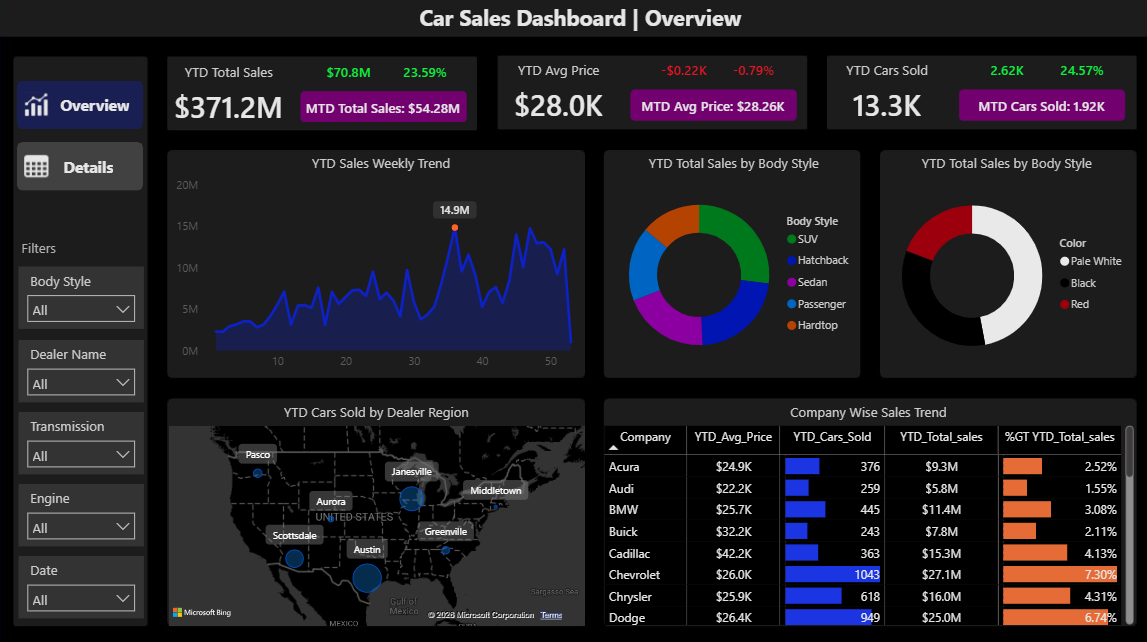

This screenshot's page, from the dashboard's own definition file:
{"tool":"powerbi","page":{"name":"Overview","canvas":[1280,720],"ordinal":0},"visuals":[{"type":"cardVisual","title":"YTD Total Sales","fields":{"Data":["car_data.YTD_Total_sales"]},"box":[173.4,71.6,163.8,74],"z":0},{"type":"cardVisual","fields":{"Data":["car_data.Sales_Diff"]},"box":[349.9,60.4,77.9,41.4],"z":1000},{"type":"cardVisual","fields":{"Data":["car_data.YoY_Total_Sales"]},"box":[434.2,60.4,77.9,41.4],"z":2000},{"type":"cardVisual","fields":{"Data":["car_data.MTD_KPI"]},"box":[335.6,103.4,184.5,35],"z":3000},{"type":"cardVisual","title":"YTD Avg Price","fields":{"Data":["car_data.YTD_Avg_Price"]},"box":[539.6,70,163.8,74],"z":4000},{"type":"cardVisual","fields":{"Data":["car_data.Avg_Diff"]},"box":[716.2,58.9,89,41.4],"z":5000},{"type":"cardVisual","fields":{"Data":["car_data.YoY_Avg_Growth"]},"box":[800.5,58.9,77.9,41.4],"z":6000},{"type":"cardVisual","fields":{"Data":["car_data.MTD_Avg_KPI"]},"box":[701.9,101.8,184.5,35],"z":7000},{"type":"cardVisual","title":"YTD Cars Sold","fields":{"Data":["car_data.YTD_Cars_Sold"]},"box":[904.4,70,163.8,74],"z":8000},{"type":"cardVisual","fields":{"Data":["car_data.Cars_Sold_Diff"]},"box":[1081,58.8,77.9,41.4],"z":9000},{"type":"cardVisual","fields":{"Data":["car_data.YoY_Cars_Sold_Growth"]},"box":[1165.3,58.8,77.9,41.4],"z":10000},{"type":"cardVisual","fields":{"Data":["car_data.MTD_Cars_Sold_KPI"]},"box":[1066.7,101.8,184.5,35],"z":11000},{"type":"areaChart","title":"YTD Sales Weekly Trend","fields":{"Category":["calender_table.Week"],"Y":["Sum(car_data.Price ($))","car_data.Max_Point"]},"box":[190.9,173.4,466,248.1],"z":12000},{"type":"donutChart","title":"YTD Total Sales by Body Style","fields":{"Category":["car_data.Body Style"],"Y":["car_data.YTD_Total_sales"]},"box":[674.4,173.4,283.1,248.1],"z":13000},{"type":"donutChart","title":"YTD Total Sales by Body Style","fields":{"Y":["car_data.YTD_Total_sales"],"Category":["car_data.Color"]},"box":[978.2,173.4,283.1,249.7],"z":14000},{"type":"map","title":"YTD Cars Sold by Dealer Region","fields":{"Category":["car_data.Dealer_Region"],"Size":["car_data.YTD_Cars_Sold"]},"box":[182.9,450.1,472,252],"z":15000},{"type":"tableEx","title":"Company Wise Sales Trend","fields":{"Values":["car_data.Company","car_data.YTD_Avg_Price","car_data.YTD_Cars_Sold","car_data.YTD_Total_sales","Divide(car_data.YTD_Total_sales, ScopedEval(car_data.YTD_Total_sales, []))"]},"box":[666.5,450.1,599,251.3],"z":16000},{"type":"textbox","box":[413.4,0,464.9,48.5],"z":17000},{"type":"slicer","fields":{"Values":["car_data.Body Style"]},"box":[21.2,298.3,139.3,69.7],"z":18000},{"type":"slicer","fields":{"Values":["car_data.Dealer_Name"]},"box":[21.2,380.1,139.3,69.7],"z":19000},{"type":"slicer","fields":{"Values":["car_data.Transmission"]},"box":[21.2,460.3,139.3,69.7],"z":20000},{"type":"slicer","fields":{"Values":["car_data.Engine"]},"box":[21.2,540.6,139.3,69.7],"z":21000},{"type":"slicer","fields":{"Values":["calender_table.Year","calender_table.Month"]},"box":[21.2,620.8,139.3,69.7],"z":22000},{"type":"textbox","box":[20.7,260.9,70,36.6],"z":23000},{"type":"actionButton","box":[20.7,92.3,140,54.1],"z":24000},{"type":"actionButton","box":[20.7,160.7,140,54.1],"z":25000}]}

Visuals, with their boxes in screenshot pixels (x1, y1, x2, y2), scaled from the page's 1280x720 canvas onto the 1147x642 screenshot:
"YTD Total Sales" cardVisual: crop(155, 64, 302, 130)
cardVisual - car_data.Sales_Diff: crop(314, 54, 383, 91)
cardVisual - car_data.YoY_Total_Sales: crop(389, 54, 459, 91)
cardVisual - car_data.MTD_KPI: crop(301, 92, 466, 123)
"YTD Avg Price" cardVisual: crop(484, 62, 630, 128)
cardVisual - car_data.Avg_Diff: crop(642, 53, 722, 89)
cardVisual - car_data.YoY_Avg_Growth: crop(717, 53, 787, 89)
cardVisual - car_data.MTD_Avg_KPI: crop(629, 91, 794, 122)
"YTD Cars Sold" cardVisual: crop(810, 62, 957, 128)
cardVisual - car_data.Cars_Sold_Diff: crop(969, 52, 1038, 89)
cardVisual - car_data.YoY_Cars_Sold_Growth: crop(1044, 52, 1114, 89)
cardVisual - car_data.MTD_Cars_Sold_KPI: crop(956, 91, 1121, 122)
"YTD Sales Weekly Trend" areaChart: crop(171, 155, 589, 376)
"YTD Total Sales by Body Style" donutChart: crop(604, 155, 858, 376)
"YTD Total Sales by Body Style" donutChart: crop(877, 155, 1130, 377)
"YTD Cars Sold by Dealer Region" map: crop(164, 401, 587, 626)
"Company Wise Sales Trend" tableEx: crop(597, 401, 1134, 625)
textbox: crop(370, 0, 787, 43)
slicer - car_data.Body Style: crop(19, 266, 144, 328)
slicer - car_data.Dealer_Name: crop(19, 339, 144, 401)
slicer - car_data.Transmission: crop(19, 410, 144, 473)
slicer - car_data.Engine: crop(19, 482, 144, 544)
slicer - calender_table.Year x calender_table.Month: crop(19, 554, 144, 616)
textbox: crop(19, 233, 81, 265)
actionButton: crop(19, 82, 144, 131)
actionButton: crop(19, 143, 144, 192)
